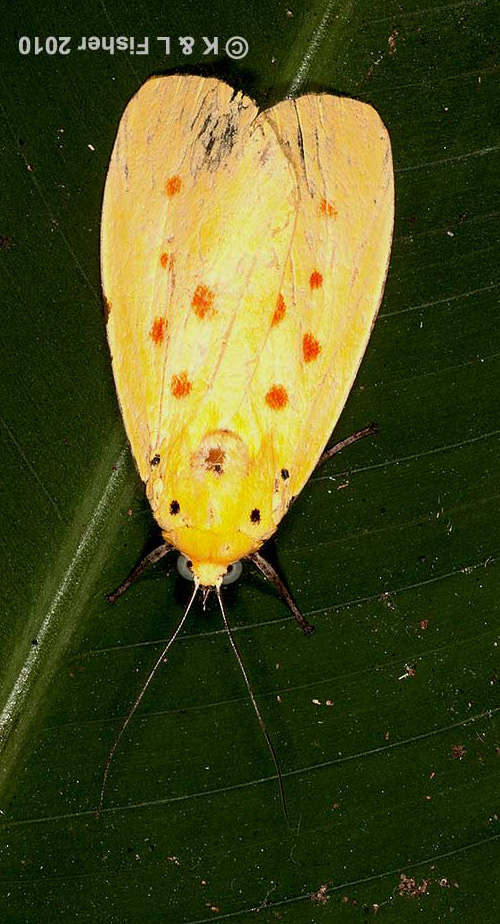Agape chloropyga: (77, 66, 397, 828)
moth: (75, 64, 395, 826)
